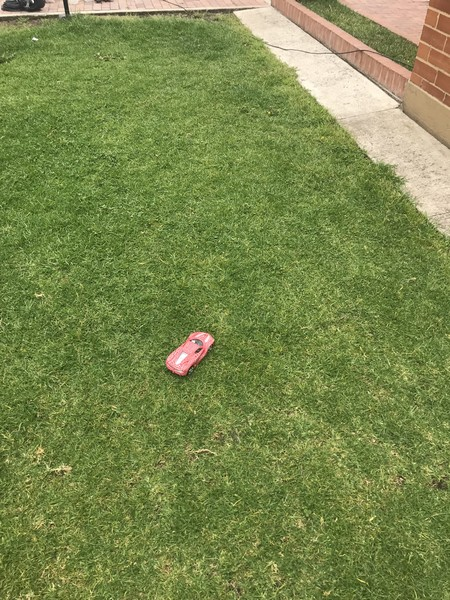RC: (163, 329, 216, 379)
